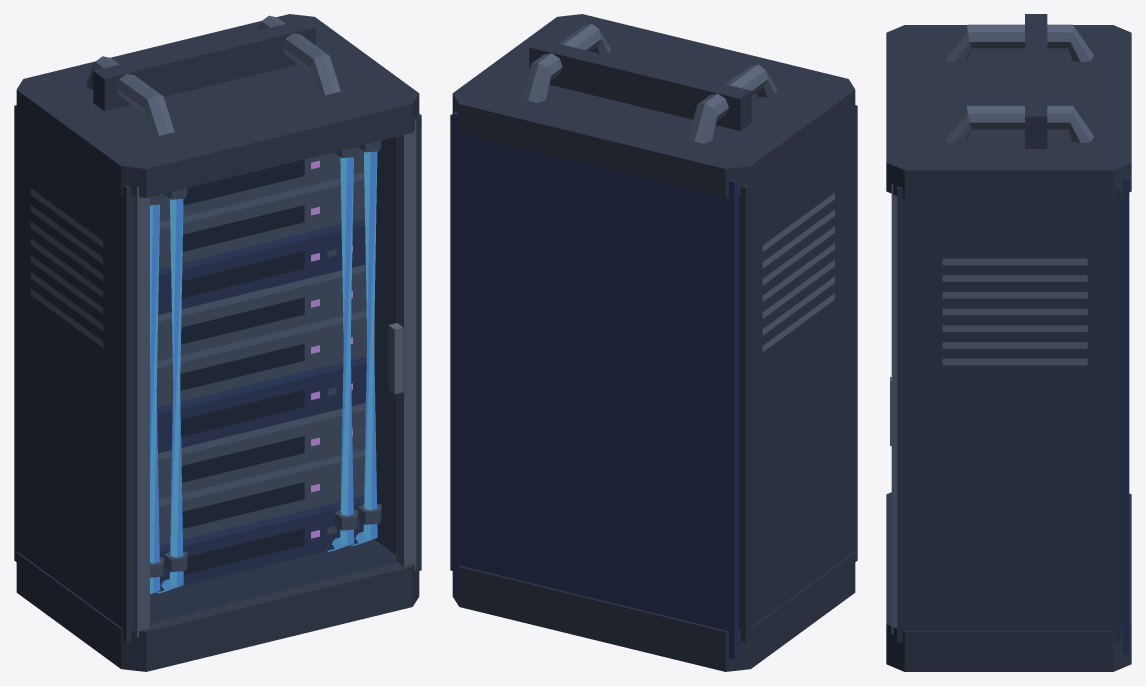
File: lab_cryo_server_rack.glb
3 renders of one model, left to right at view 1: azimuth 30°, elevation 25°; view 2: azimuth 150°, elevation 25°; view 3: azimuth 270°, elevation 25°, orthographic.
Visible parts, largest first — view 1: manifold_clip, door_glass, compression_nut, air_intake, back, coolant, latch, activity, activity.001; view 2: back, manifold_clip, compression_nut, latch; view 3: manifold_clip, compression_nut, latch, back.
Boxes of the visible parts, left/top/right/bottom form: manifold_clip: left=14, top=14, right=421, bottom=671; door_glass: left=150, top=137, right=397, bottom=622; compression_nut: left=86, top=15, right=416, bottom=637; air_intake: left=180, top=159, right=304, bottom=574; back: left=156, top=218, right=374, bottom=592; coolant: left=150, top=151, right=377, bottom=594; latch: left=30, top=188, right=403, bottom=394; activity: left=311, top=160, right=352, bottom=538; activity.001: left=327, top=157, right=336, bottom=534; back: left=453, top=111, right=738, bottom=659; manifold_clip: left=450, top=14, right=857, bottom=671; compression_nut: left=522, top=24, right=776, bottom=143; latch: left=762, top=193, right=834, bottom=351; manifold_clip: left=886, top=14, right=1131, bottom=671; compression_nut: left=891, top=24, right=1093, bottom=633; latch: left=890, top=258, right=1087, bottom=445; back: left=1120, top=176, right=1129, bottom=654.
Size of the model in its own units: 1.4 by 2.4 by 1.
